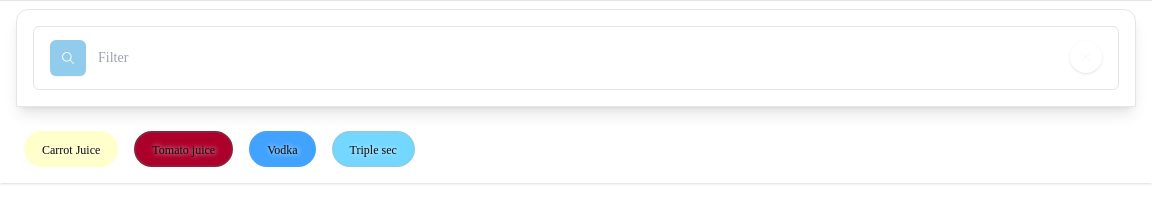
it: IngredientsFinder › filters ingredients
In the text box with placeholder "Filter": (576, 58) [82,27,1070,89], type "vodka"
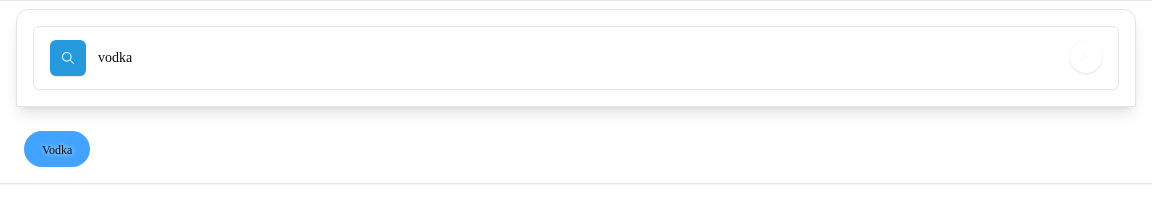
Expected: the text "Vodka" is shown, [24,131,90,167]
Expected: the text "Carrot Juice" is gone
